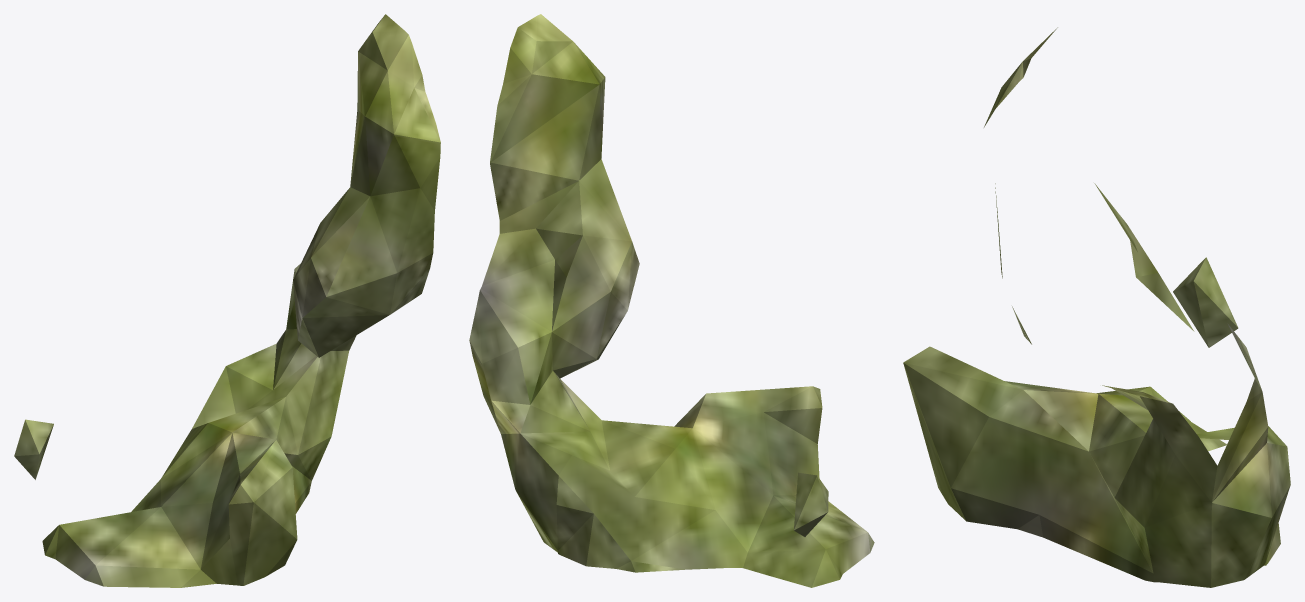
3 renders of one model, left to right at view 1: azimuth 30°, elevation 25°; view 2: azimuth 150°, elevation 25°; view 3: azimuth 270°, elevation 25°, orthographic. The views are drawn at different scales.
Size of the model in its own units: 0.6997 by 0.9141 by 0.5256.
1 material, 1 textured.
